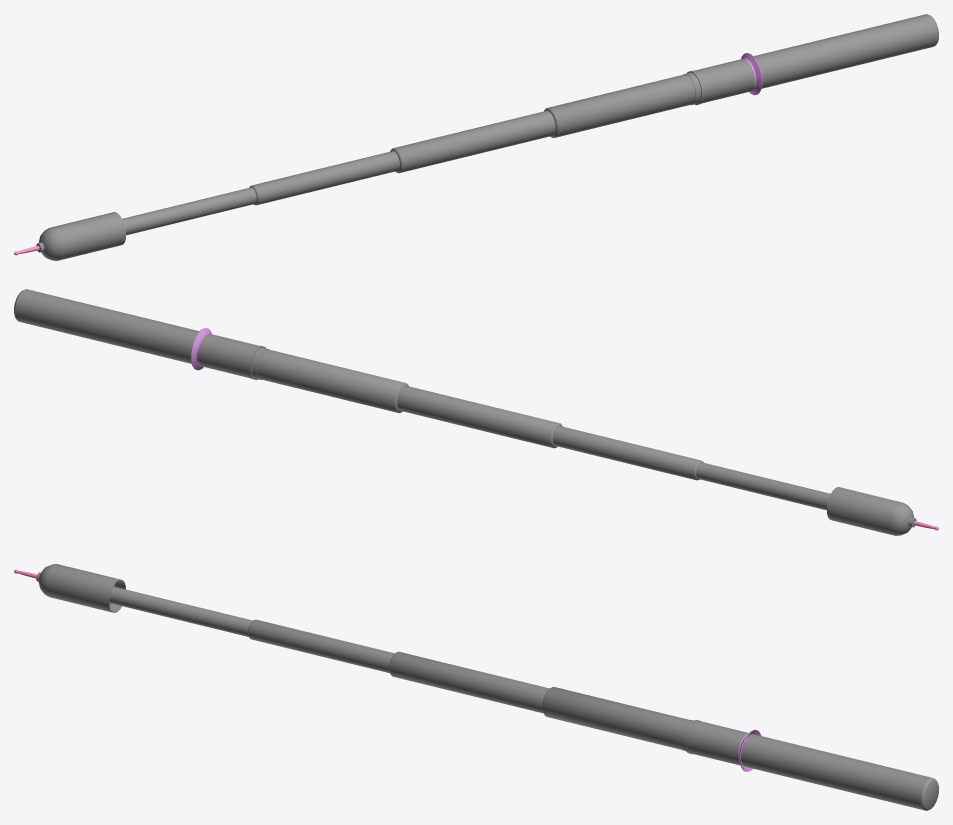
File: 1_yandian.FBX
3 views of the same model, one above another, from view 1: azimuth 30°, elevation 25°; view 2: azimuth 150°, elevation 25°; view 3: azimuth 330°, elevation 25° (orthographic).
Parts seen in each view (by area): view 1: Cylinder011; view 2: Cylinder011; view 3: Cylinder011.
Boxes of the visible parts, x1,y1,x2,y2 form: Cylinder011: (14, 14, 938, 260); Cylinder011: (14, 289, 938, 535); Cylinder011: (14, 564, 938, 810).
Size of the model in its own units: 133 by 5.46 by 5.38.
